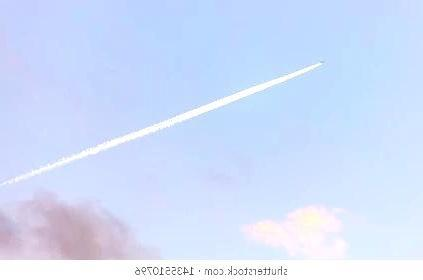Plane: (135, 48, 345, 125)
